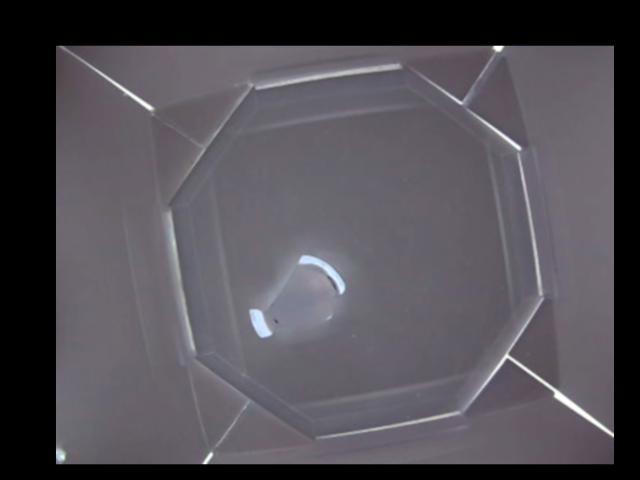China: (246, 254, 342, 339)
